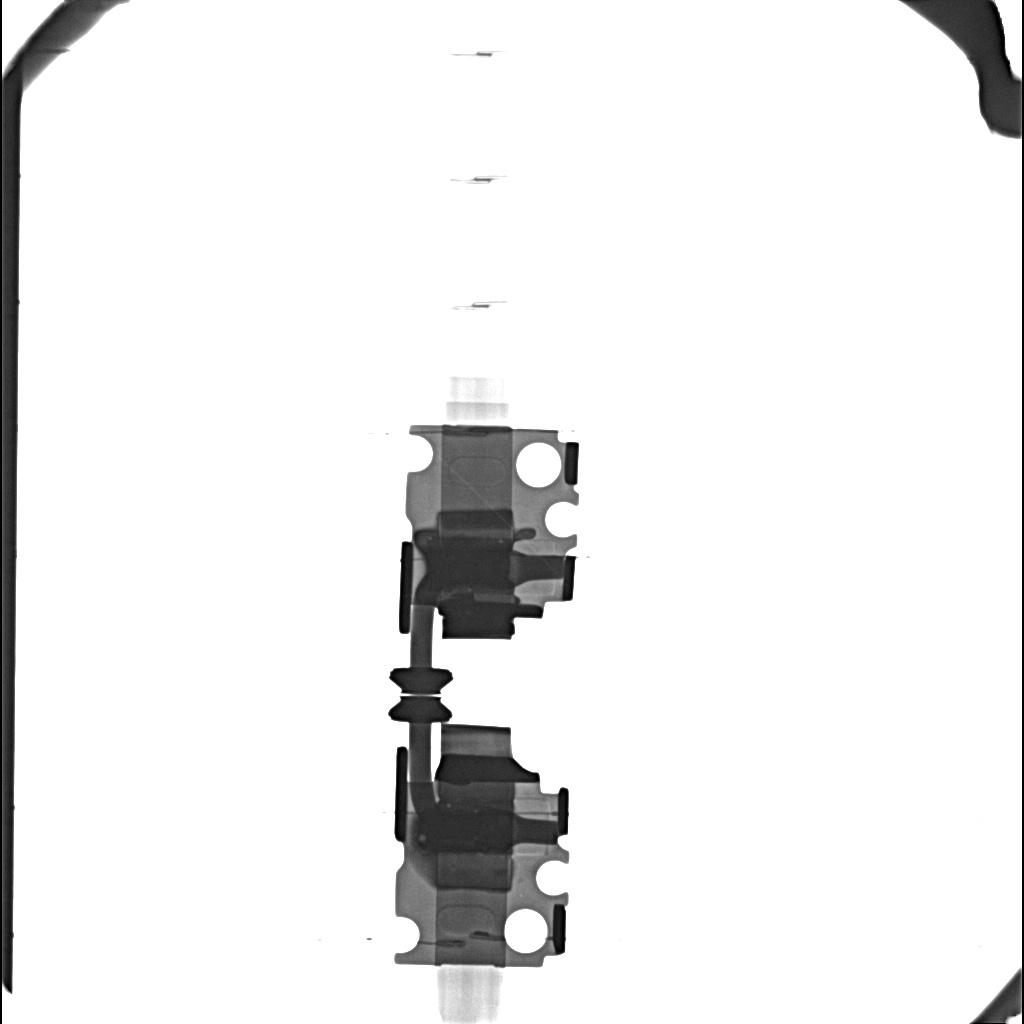PX: (434, 855, 514, 891), (435, 507, 516, 533)
SX: (415, 805, 511, 849), (427, 538, 507, 583)
